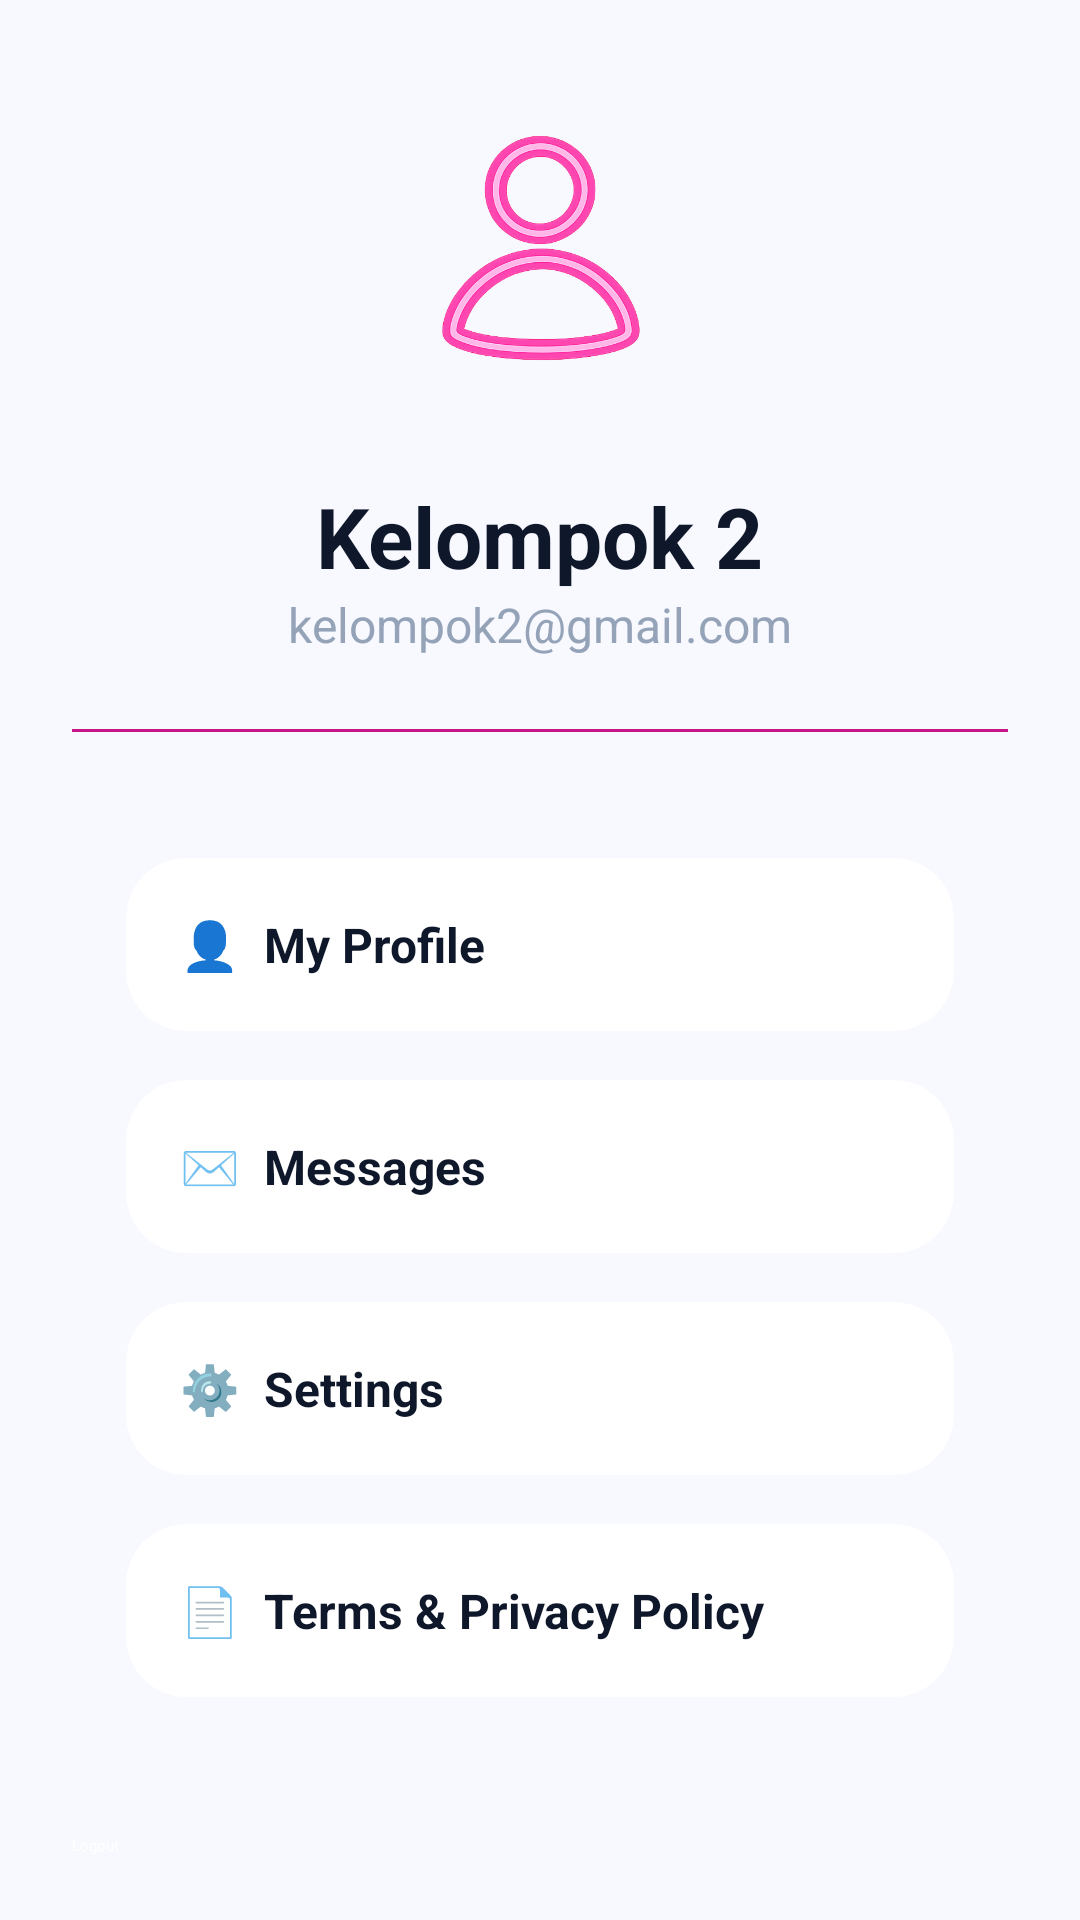

Screen size 1080px×1920px. Icon name, then its center in pixels as [x,y]:
profile: [541,248]
